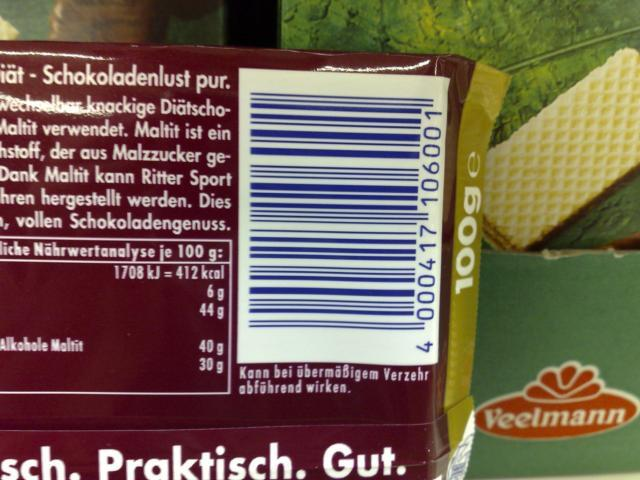Barcode: (243, 89, 450, 360)
